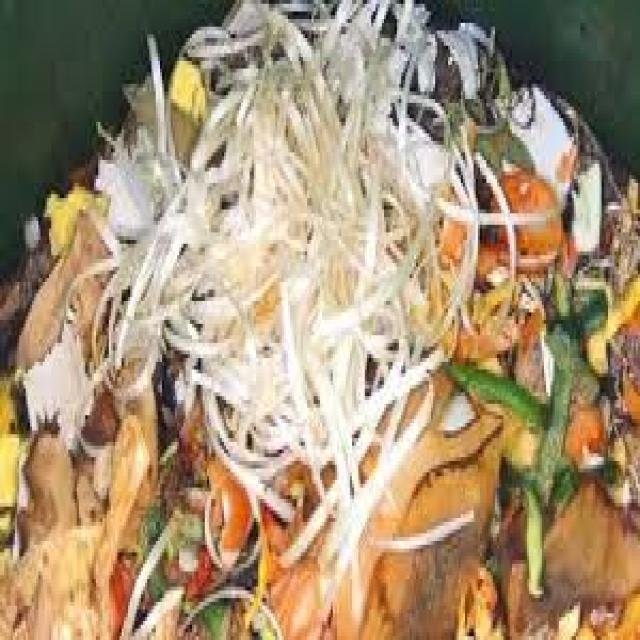organic waste: (100, 8, 489, 492), (329, 396, 497, 636), (117, 377, 271, 636), (369, 434, 501, 636), (508, 476, 638, 636), (79, 366, 160, 564), (258, 450, 335, 636), (12, 210, 106, 358), (28, 503, 111, 636), (448, 343, 550, 446), (19, 419, 77, 560), (489, 164, 561, 259), (584, 259, 638, 373), (538, 354, 572, 507), (478, 396, 542, 476), (0, 526, 45, 636), (0, 228, 49, 328), (164, 53, 207, 160), (452, 556, 506, 636), (45, 171, 92, 259), (510, 312, 555, 400), (472, 232, 522, 298), (506, 541, 540, 636), (0, 366, 15, 537), (572, 152, 599, 244), (584, 594, 638, 636), (567, 286, 604, 339), (552, 457, 582, 522), (527, 503, 546, 594), (493, 472, 518, 530), (554, 221, 572, 282)
